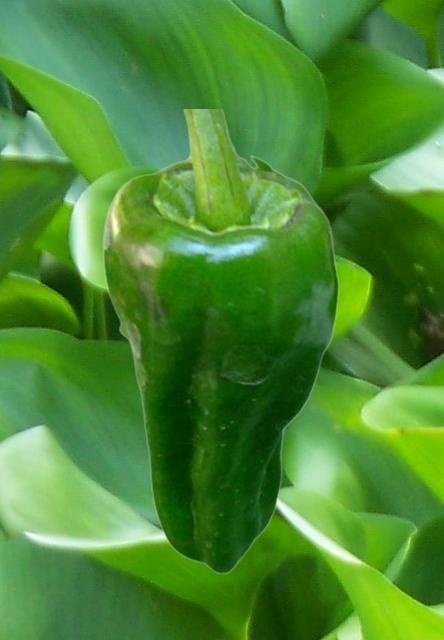bell_pepper: (101, 109, 339, 574)
